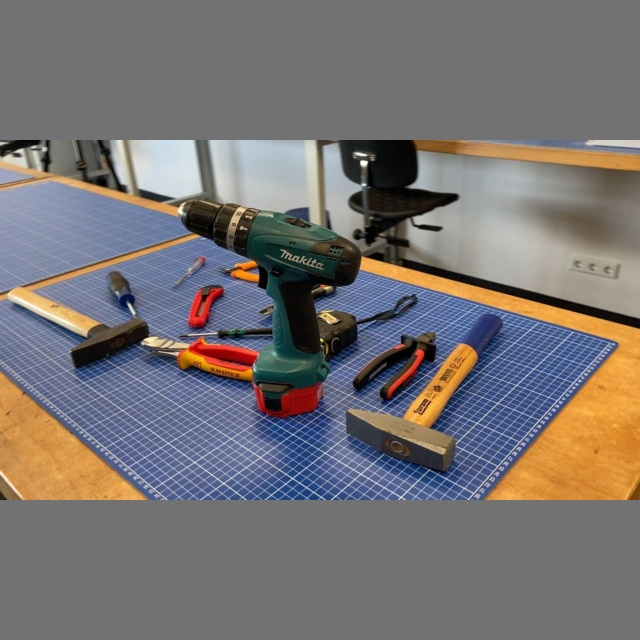drill: (173, 196, 365, 421)
screwdriver: (103, 269, 141, 320), (177, 326, 274, 340), (170, 255, 207, 291)
